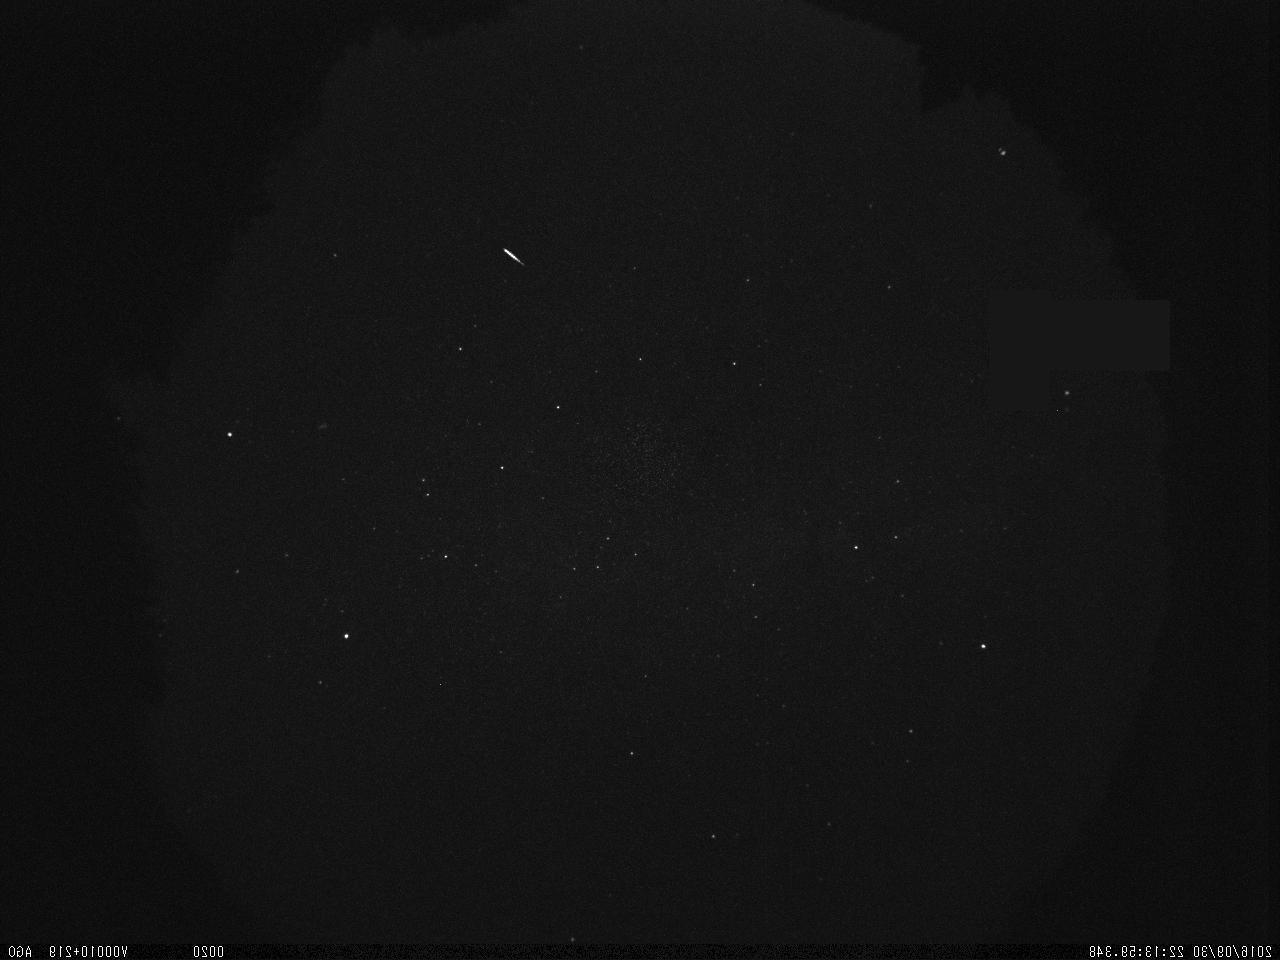meteor: (499, 242, 528, 272)
